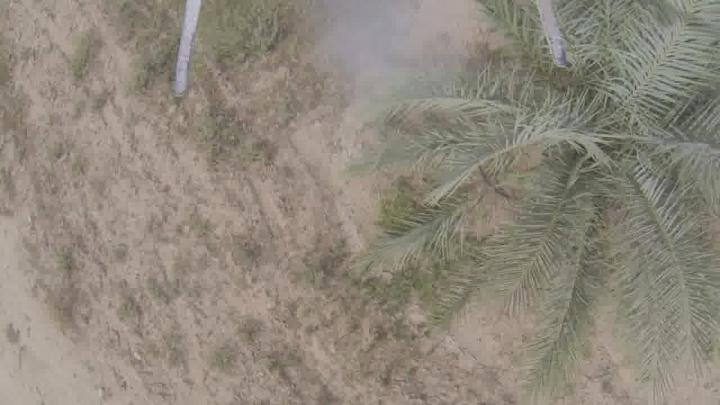Date-Palm-Crown: (448, 6, 720, 290)
